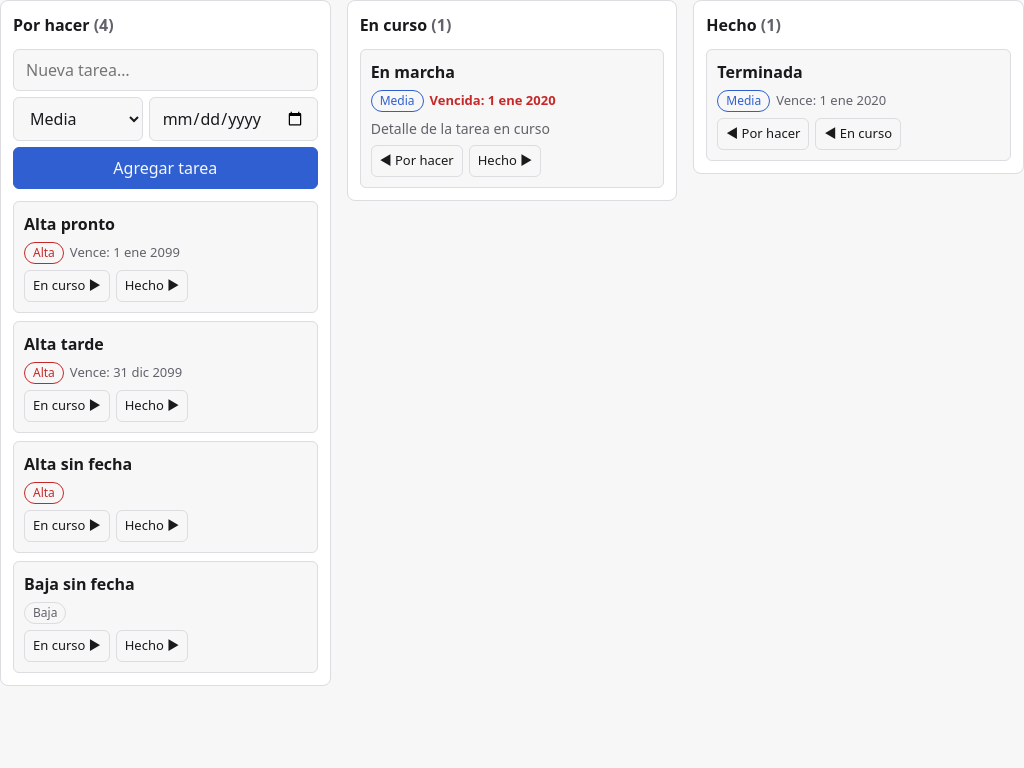
Test: TaskBoard quick create › shows the API error and keeps the typed title
The image size is (1024, 768).
Expected: the button "En marcha" is shown, left=371, top=60, right=653, bottom=84
In the field named "Título de la nueva tarea": (165, 70) left=13, top=49, right=318, bottom=91, type "Y"
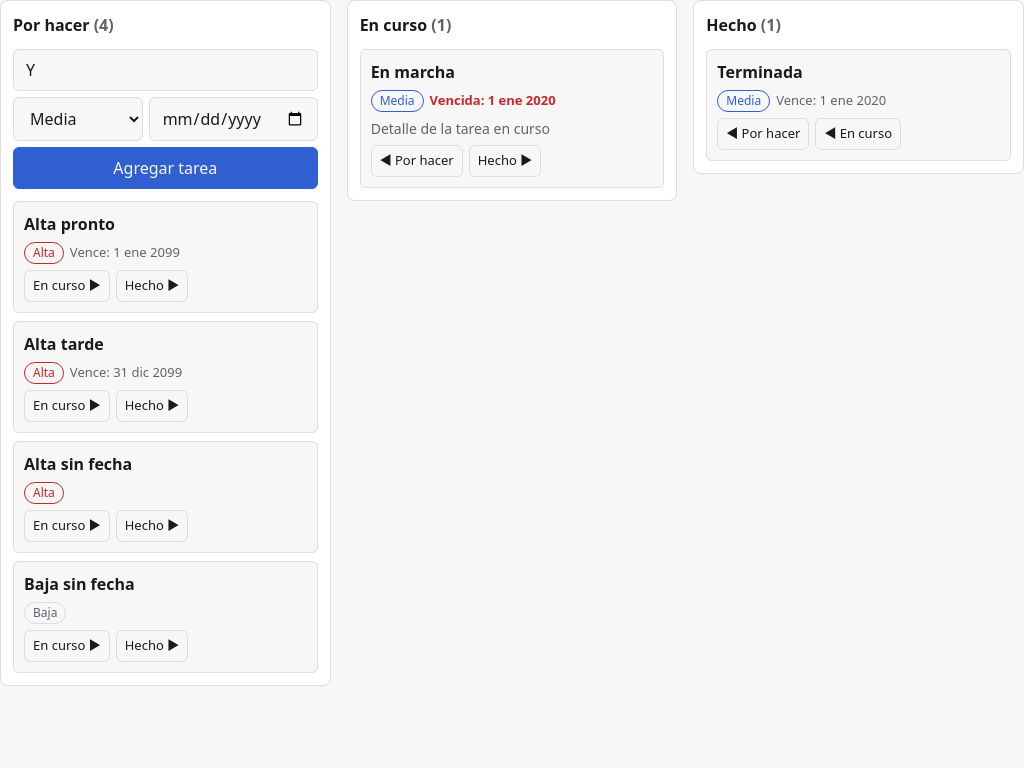
Click the button "Agregar tarea": (165, 168) left=13, top=147, right=318, bottom=189
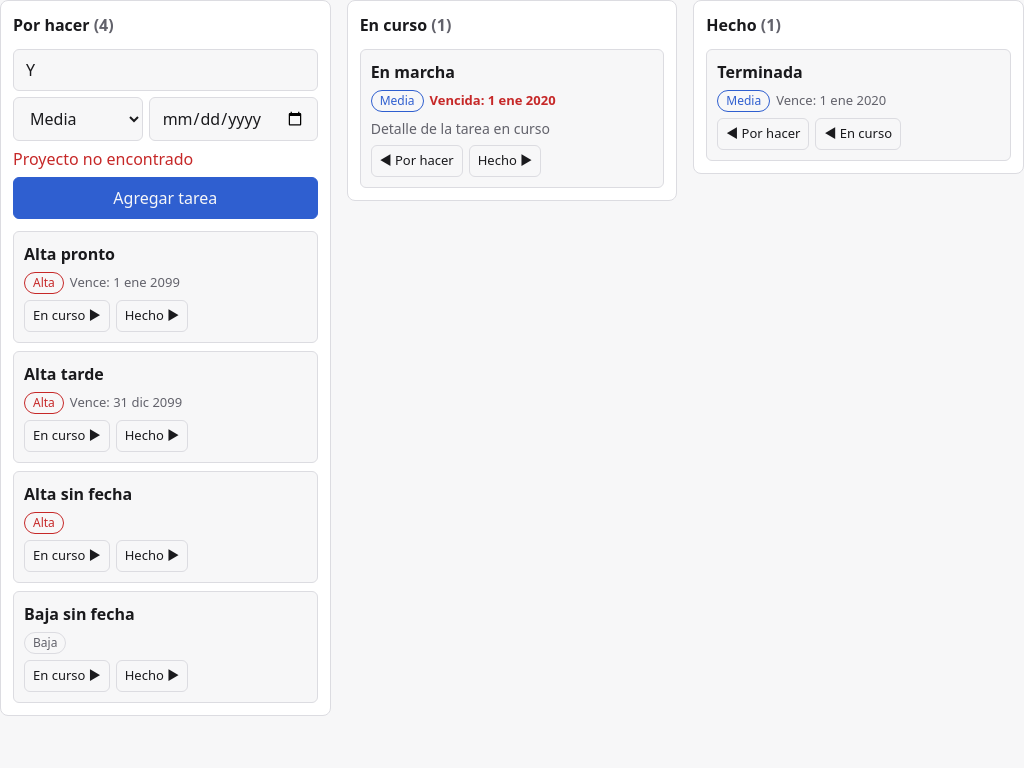
Expected: the message reads "Proyecto no encontrado", left=13, top=148, right=193, bottom=170
